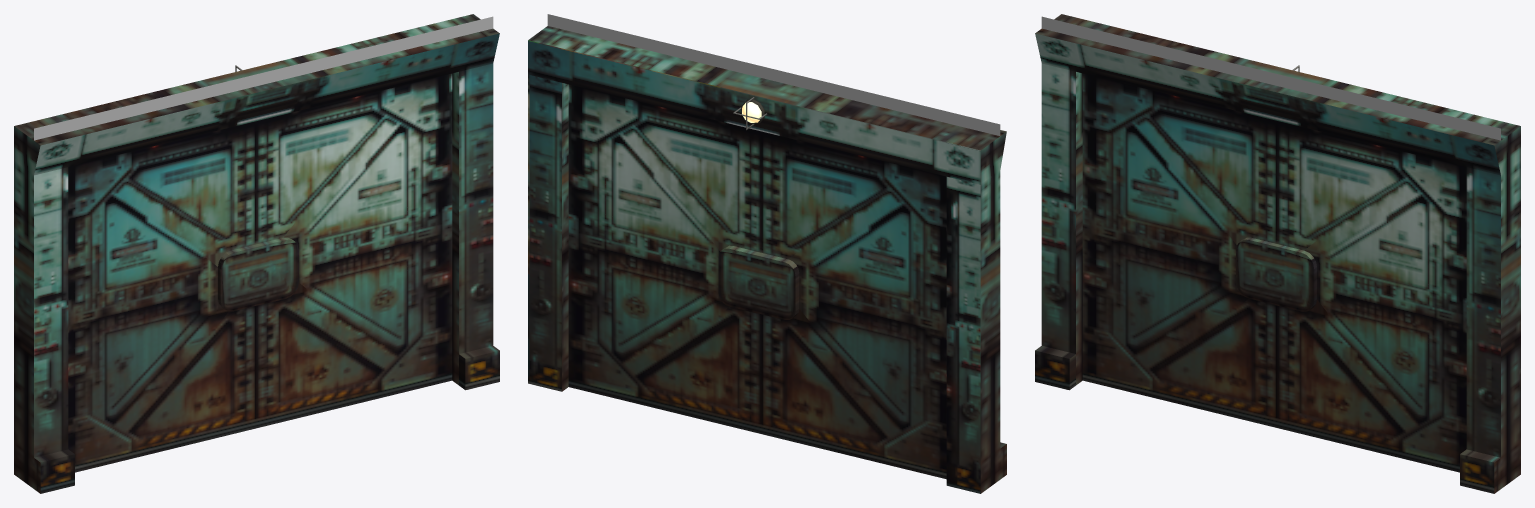
The model's file is scifigate.fbx.
3 renders of one model, left to right at view 1: azimuth 30°, elevation 25°; view 2: azimuth 150°, elevation 25°; view 3: azimuth 330°, elevation 25°, orthographic.
Parts seen in each view (by area): view 1: Plane.143, Plane.142, Plane.012; view 2: Plane.012, Plane.143, Plane.142, Cube.020; view 3: Plane.142, Plane.143, Plane.012.
Part boxes in pixels (box(x1,y1,x2,y2)): Plane.143: box(257, 73, 452, 427); Plane.142: box(68, 121, 259, 472); Plane.012: box(14, 14, 499, 493); Plane.012: box(528, 14, 1006, 493); Plane.143: box(568, 84, 760, 433); Plane.142: box(757, 131, 946, 479); Cube.020: box(733, 97, 767, 130); Plane.142: box(1082, 73, 1277, 427); Plane.143: box(1275, 121, 1466, 472); Plane.012: box(1035, 14, 1520, 493).
Size of the model in its own units: 400 by 300 by 52.17.
